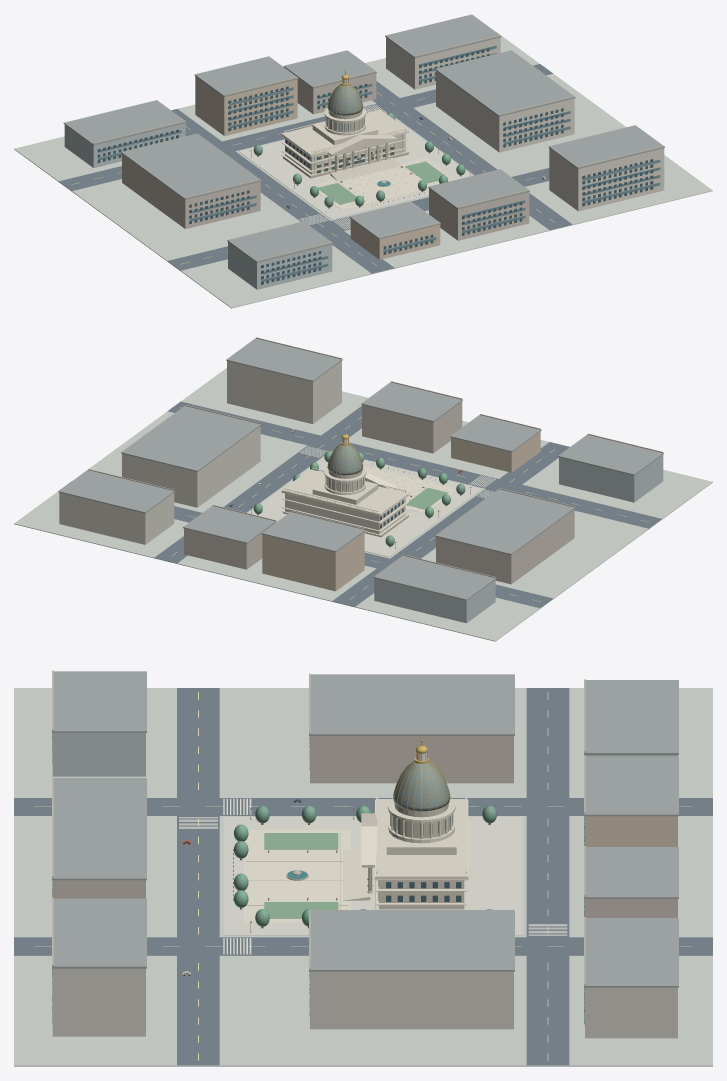
Rendered from civic-center.glb.
3 renders of one model, top to bottom at view 1: azimuth 30°, elevation 25°; view 2: azimuth 150°, elevation 25°; view 3: azimuth 270°, elevation 25°, orthographic. The views are drawn at different scales.
Parts seen in each view (by area): view 1: ground-surface-0.001, street-network-surface-1.001, city-hall-surface-44.001, building-1-surface-13.001, building-0-surface-10.001, building-1-surface-12.001, civic-block-surface-3.001, building-9-surface-36.001, building-0-surface-9.001, building-3-surface-18.001, building-2-surface-16.001, building-5-surface-25.001 (+28 smaller); view 2: ground-surface-0.001, street-network-surface-1.001, building-1-surface-13.001, building-0-surface-10.001, building-9-surface-36.001, building-1-surface-12.001, building-3-surface-18.001, building-0-surface-9.001, city-hall-surface-44.001, building-5-surface-24.001, civic-block-surface-3.001, building-8-surface-33.001 (+17 smaller); view 3: ground-surface-0.001, street-network-surface-1.001, building-0-surface-10.001, building-1-surface-13.001, building-1-surface-12.001, civic-block-surface-3.001, city-hall-surface-44.001, building-0-surface-9.001, building-2-surface-16.001, building-9-surface-37.001, building-5-surface-25.001, building-9-surface-36.001 (+22 smaller).
Part boxes in pixels (left/top/right/bottom): ground-surface-0.001: left=14, top=31, right=712, bottom=308; street-network-surface-1.001: left=59, top=64, right=572, bottom=273; city-hall-surface-44.001: left=281, top=79, right=408, bottom=181; building-1-surface-13.001: left=435, top=50, right=575, bottom=116; building-0-surface-10.001: left=121, top=133, right=261, bottom=199; building-1-surface-12.001: left=436, top=71, right=574, bottom=152; civic-block-surface-3.001: left=238, top=119, right=472, bottom=219; building-9-surface-36.001: left=549, top=148, right=664, bottom=211; building-0-surface-9.001: left=122, top=154, right=260, bottom=228; building-3-surface-18.001: left=195, top=76, right=297, bottom=136; building-2-surface-16.001: left=63, top=100, right=186, bottom=145; building-5-surface-25.001: left=385, top=14, right=501, bottom=58; ground-surface-0.001: left=14, top=368, right=712, bottom=641; street-network-surface-1.001: left=59, top=401, right=661, bottom=607; building-1-surface-13.001: left=121, top=405, right=261, bottom=471; building-0-surface-10.001: left=435, top=489, right=575, bottom=554; building-9-surface-36.001: left=227, top=361, right=341, bottom=424; building-1-surface-12.001: left=122, top=426, right=260, bottom=507; building-3-surface-18.001: left=262, top=531, right=364, bottom=591; building-0-surface-9.001: left=436, top=509, right=574, bottom=584; city-hall-surface-44.001: left=281, top=438, right=408, bottom=535; building-5-surface-24.001: left=59, top=492, right=174, bottom=544; civic-block-surface-3.001: left=248, top=452, right=481, bottom=557; building-8-surface-33.001: left=362, top=401, right=462, bottom=453; ground-surface-0.001: left=14, top=688, right=712, bottom=1066; street-network-surface-1.001: left=14, top=688, right=712, bottom=1065; building-0-surface-10.001: left=309, top=674, right=514, bottom=735; building-1-surface-13.001: left=309, top=910, right=514, bottom=971; building-1-surface-12.001: left=310, top=971, right=513, bottom=1029; civic-block-surface-3.001: left=223, top=817, right=522, bottom=935; city-hall-surface-44.001: left=343, top=752, right=467, bottom=909; building-0-surface-9.001: left=310, top=736, right=513, bottom=783; building-2-surface-16.001: left=584, top=680, right=678, bottom=754; building-9-surface-37.001: left=52, top=898, right=146, bottom=968; building-5-surface-25.001: left=584, top=918, right=678, bottom=987; building-9-surface-36.001: left=52, top=968, right=145, bottom=1036.
Bounding box in the file's own units: 460 × 78.58 × 360.
